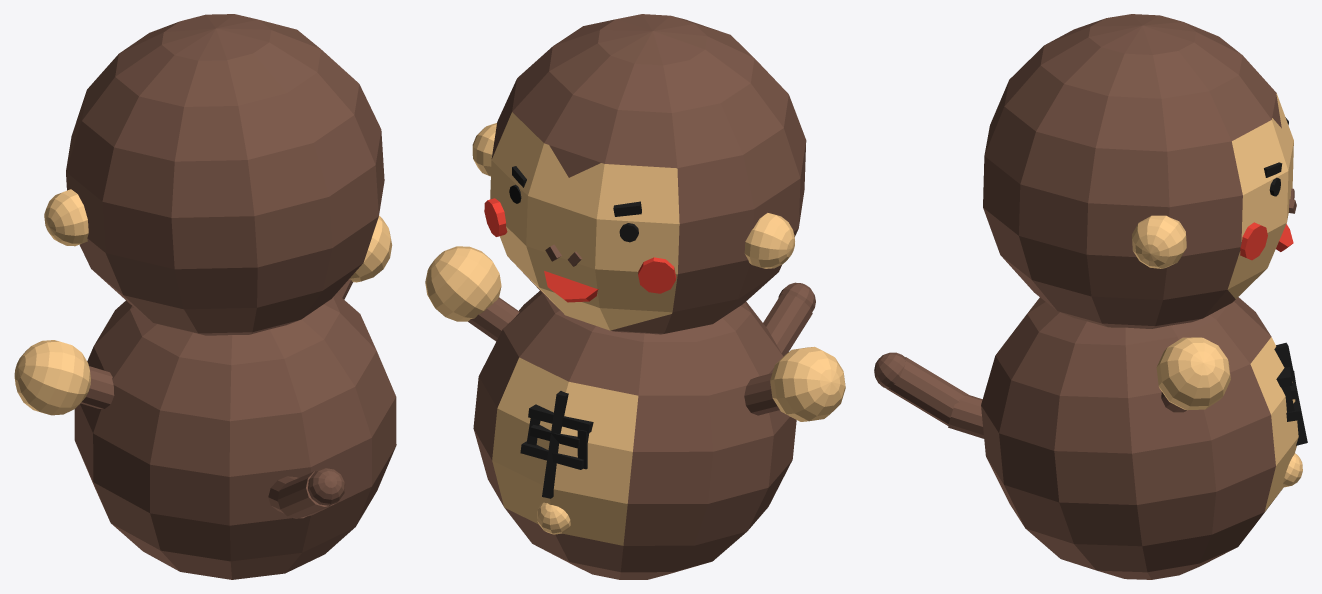
File: Monkey.glb
The picture shows the model from 3 angles, left to right: view 1: azimuth 30°, elevation 25°; view 2: azimuth 150°, elevation 25°; view 3: azimuth 270°, elevation 25°; orthographic projection. The views are drawn at different scales.
Visible parts, largest first — view 1: group92306870, group506878346, group1390639520, group2072435950, group929959296, group939784215, group1876652832, group753824224; view 2: group92306870, group506878346, group1390639520, group929959296, group2072435950, group939784215, group762257270, group1540249012, group602222414, group753824224, group251592717, group1390256024 (+5 smaller); view 3: group92306870, group506878346, group929959296, group939784215, group1390256024, group427949838, group1876652832, group723340241, group1540249012.
Part boxes in pixels (<box>): group92306870: <box>66,14,384,335</box>; group506878346: <box>74,293,396,579</box>; group1390639520: <box>14,340,90,415</box>; group2072435950: <box>44,189,88,246</box>; group929959296: <box>349,215,392,282</box>; group939784215: <box>277,471,333,518</box>; group1876652832: <box>308,468,345,505</box>; group753824224: <box>81,366,114,408</box>; group92306870: <box>490,14,806,334</box>; group506878346: <box>473,291,796,579</box>; group1390639520: <box>770,346,845,421</box>; group929959296: <box>425,246,501,321</box>; group2072435950: <box>744,213,794,268</box>; group939784215: <box>763,293,812,356</box>; group762257270: <box>638,257,676,293</box>; group1540249012: <box>542,391,568,498</box>; group602222414: <box>468,297,519,341</box>; group753824224: <box>744,373,779,415</box>; group251592717: <box>544,271,598,302</box>; group1390256024: <box>472,123,496,176</box>; group92306870: <box>983,14,1293,328</box>; group506878346: <box>981,297,1298,579</box>; group929959296: <box>1156,337,1230,410</box>; group939784215: <box>886,357,969,425</box>; group1390256024: <box>1132,215,1186,268</box>; group427949838: <box>948,395,984,438</box>; group1876652832: <box>874,352,905,388</box>; group723340241: <box>1240,222,1267,260</box>; group1540249012: <box>1274,342,1307,445</box>.
Bounding box in the file's own units: 0.2339 × 0.3104 × 0.2301.
